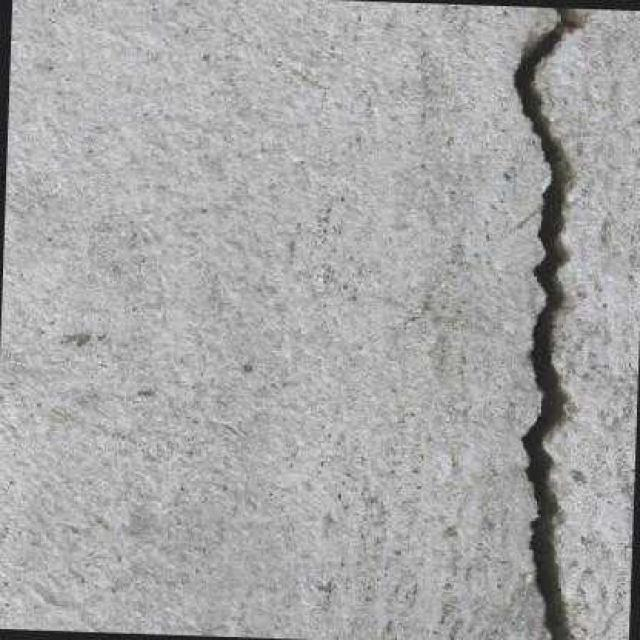D00: (516, 8, 586, 640)
